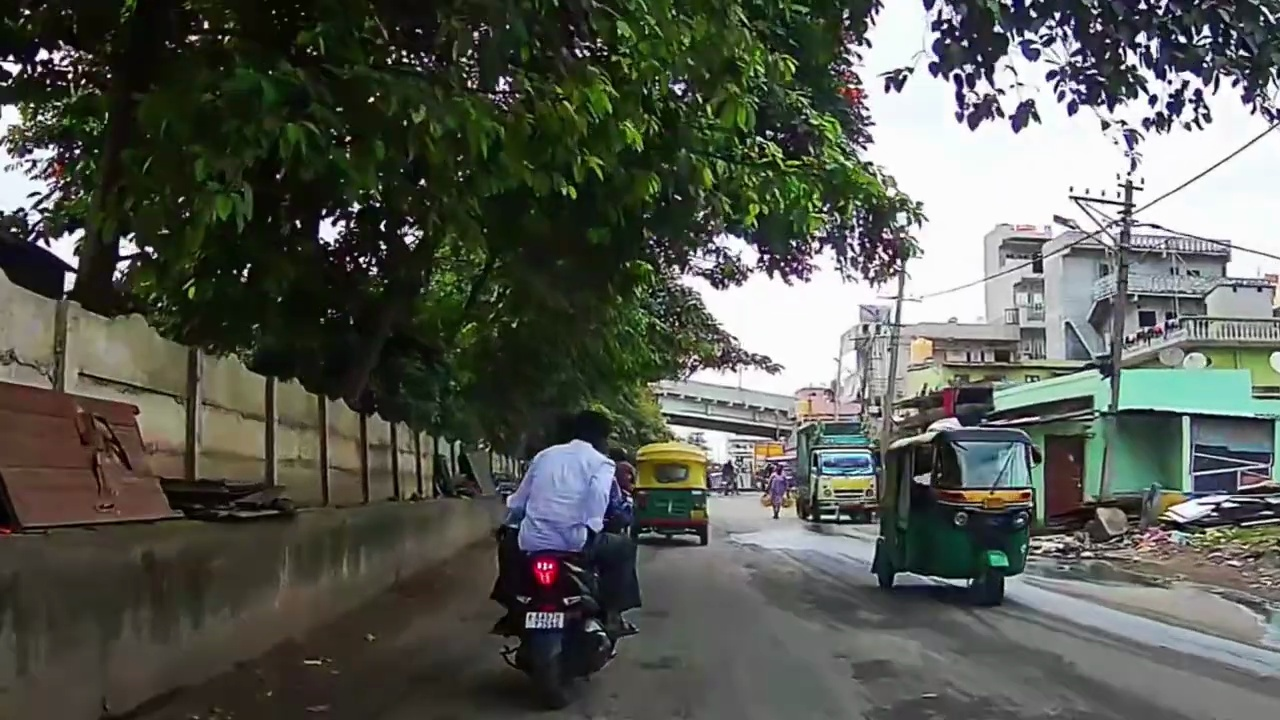garbage: (1167, 509, 1278, 586)
